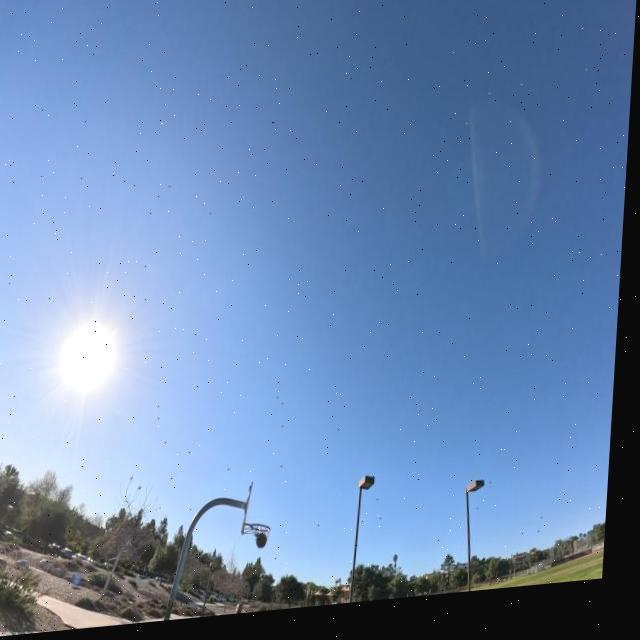hoop: (241, 512, 284, 562)
